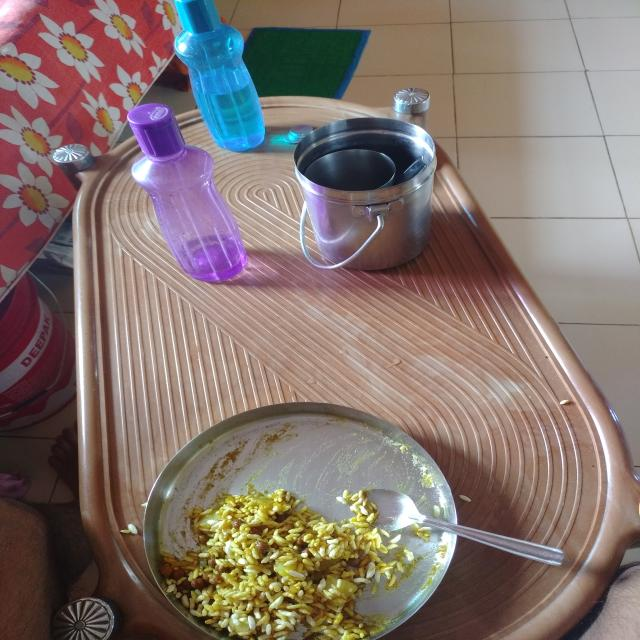bottle: (114, 100, 248, 289), (167, 0, 273, 151)
glass: (294, 118, 447, 269)
plate: (138, 400, 455, 640)
table: (72, 89, 614, 627)
